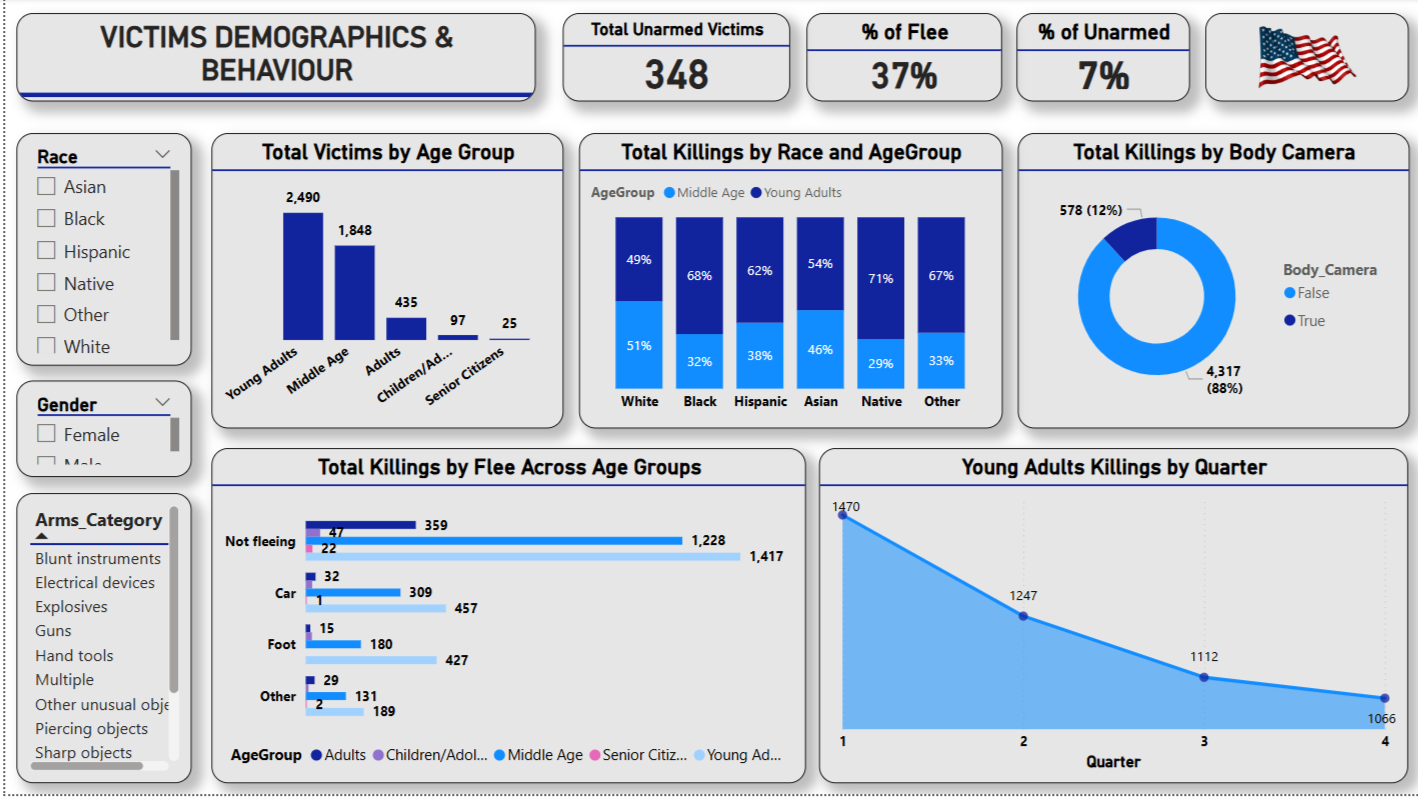

The page's visual inventory and layout, read from the dashboard file:
{"tool":"powerbi","page":{"name":"Demographics & Bahaviour","canvas":[1280,720],"ordinal":1},"visuals":[{"type":"columnChart","title":"Total Victims by Age Group","fields":{"Category":["Victims Demographics.AgeGroup"],"Y":["New_Measures.Total Killings"]},"box":[186.6,122.1,318.4,267.6],"z":0},{"type":"donutChart","title":"% Killings by Body Camera","fields":{"Category":["Victims Demographics.Body_Camera"],"Y":["New_Measures.Total Killings"]},"box":[915.3,122.1,354,267.6],"z":1000},{"type":"clusteredBarChart","title":"Total Killings by Flee Across Age Groups","fields":{"Category":["Victims Demographics.Flee"],"Y":["New_Measures.Total Killings"],"Series":["Victims Demographics.AgeGroup"]},"box":[186.6,407.5,537.9,303.3],"z":2000},{"type":"slicer","fields":{"Values":["Victims Demographics.Race"]},"box":[10.5,122.1,158.1,210.5],"z":3000},{"type":"slicer","fields":{"Values":["Victims Demographics.Gender"]},"box":[10.5,346.5,158.1,87.2],"z":4000},{"type":"tableEx","fields":{"Values":["Victims Demographics.Arms_Category"]},"box":[10.5,447.7,158.1,262.8],"z":5000},{"type":"card","title":"% of Unarmed","fields":{"Values":["New_Measures.% Unarmed"]},"box":[915.1,14,157,80.2],"z":6000},{"type":"image","box":[1085.4,13.6,184.3,80.3],"z":7000},{"type":"card","title":"% of Flee","fields":{"Values":["New_Measures.% Fleeing"]},"box":[724.4,14,176.7,80.2],"z":8000},{"type":"card","title":"Total Unarmed Victims","fields":{"Values":["New_Measures.Unarmed Victims"]},"box":[504.7,14,205.8,80.2],"z":9000},{"type":"textbox","title":"VICTIMS DEMOGRAPHICS & BEHAVIOUR","box":[10.5,14,469.8,80.2],"z":10000},{"type":"hundredPercentStackedColumnChart","fields":{"Category":["Victims Demographics.Race"],"Series":["Victims Demographics.AgeGroup"],"Y":["New_Measures.Total Killings"]},"box":[518.7,122.1,382.8,267.6],"z":11000},{"type":"lineChart","title":"Young Adults Killings by Quarter","fields":{"Category":["Event Date.Year Hierarchy.Year","Event Date.Year Hierarchy.Quarter","Event Date.Year Hierarchy.Month","Event Date.Year Hierarchy.Day"],"Y":["CountNonNull(Victims Demographics.AgeGroup)"]},"box":[736,407,532.6,303.5],"z":12000}]}

Visuals, with their boxes in screenshot pixels (x1, y1, x2, y2), scaled from the page's 1280x720 canvas onto the 1418x800 screenshot:
"Total Victims by Age Group" columnChart: locate(207, 136, 559, 433)
"% Killings by Body Camera" donutChart: locate(1014, 136, 1406, 433)
"Total Killings by Flee Across Age Groups" clusteredBarChart: locate(207, 453, 803, 790)
slicer - Victims Demographics.Race: locate(12, 136, 187, 370)
slicer - Victims Demographics.Gender: locate(12, 385, 187, 482)
tableEx - Victims Demographics.Arms_Category: locate(12, 497, 187, 789)
"% of Unarmed" card: locate(1014, 16, 1188, 105)
image: locate(1202, 15, 1407, 104)
"% of Flee" card: locate(802, 16, 998, 105)
"Total Unarmed Victims" card: locate(559, 16, 787, 105)
"VICTIMS DEMOGRAPHICS & BEHAVIOUR" textbox: locate(12, 16, 532, 105)
hundredPercentStackedColumnChart - Victims Demographics.Race x Victims Demographics.AgeGroup: locate(575, 136, 999, 433)
"Young Adults Killings by Quarter" lineChart: locate(815, 452, 1405, 789)
